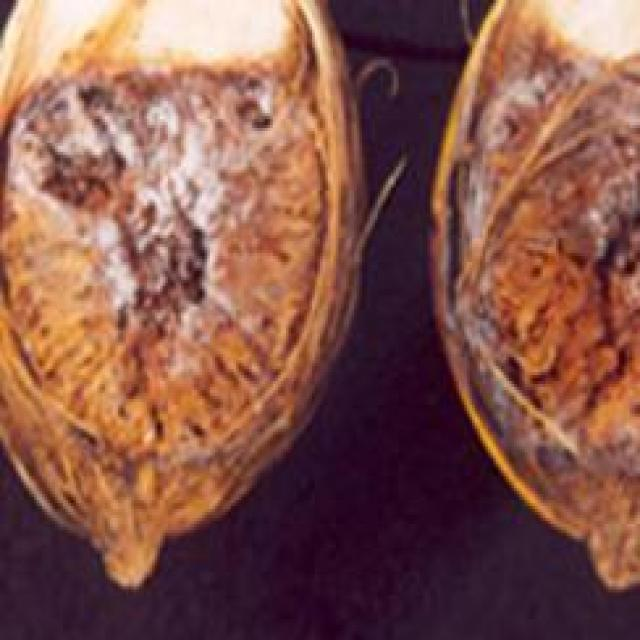damaged: (0, 0, 372, 583), (433, 0, 637, 586)
